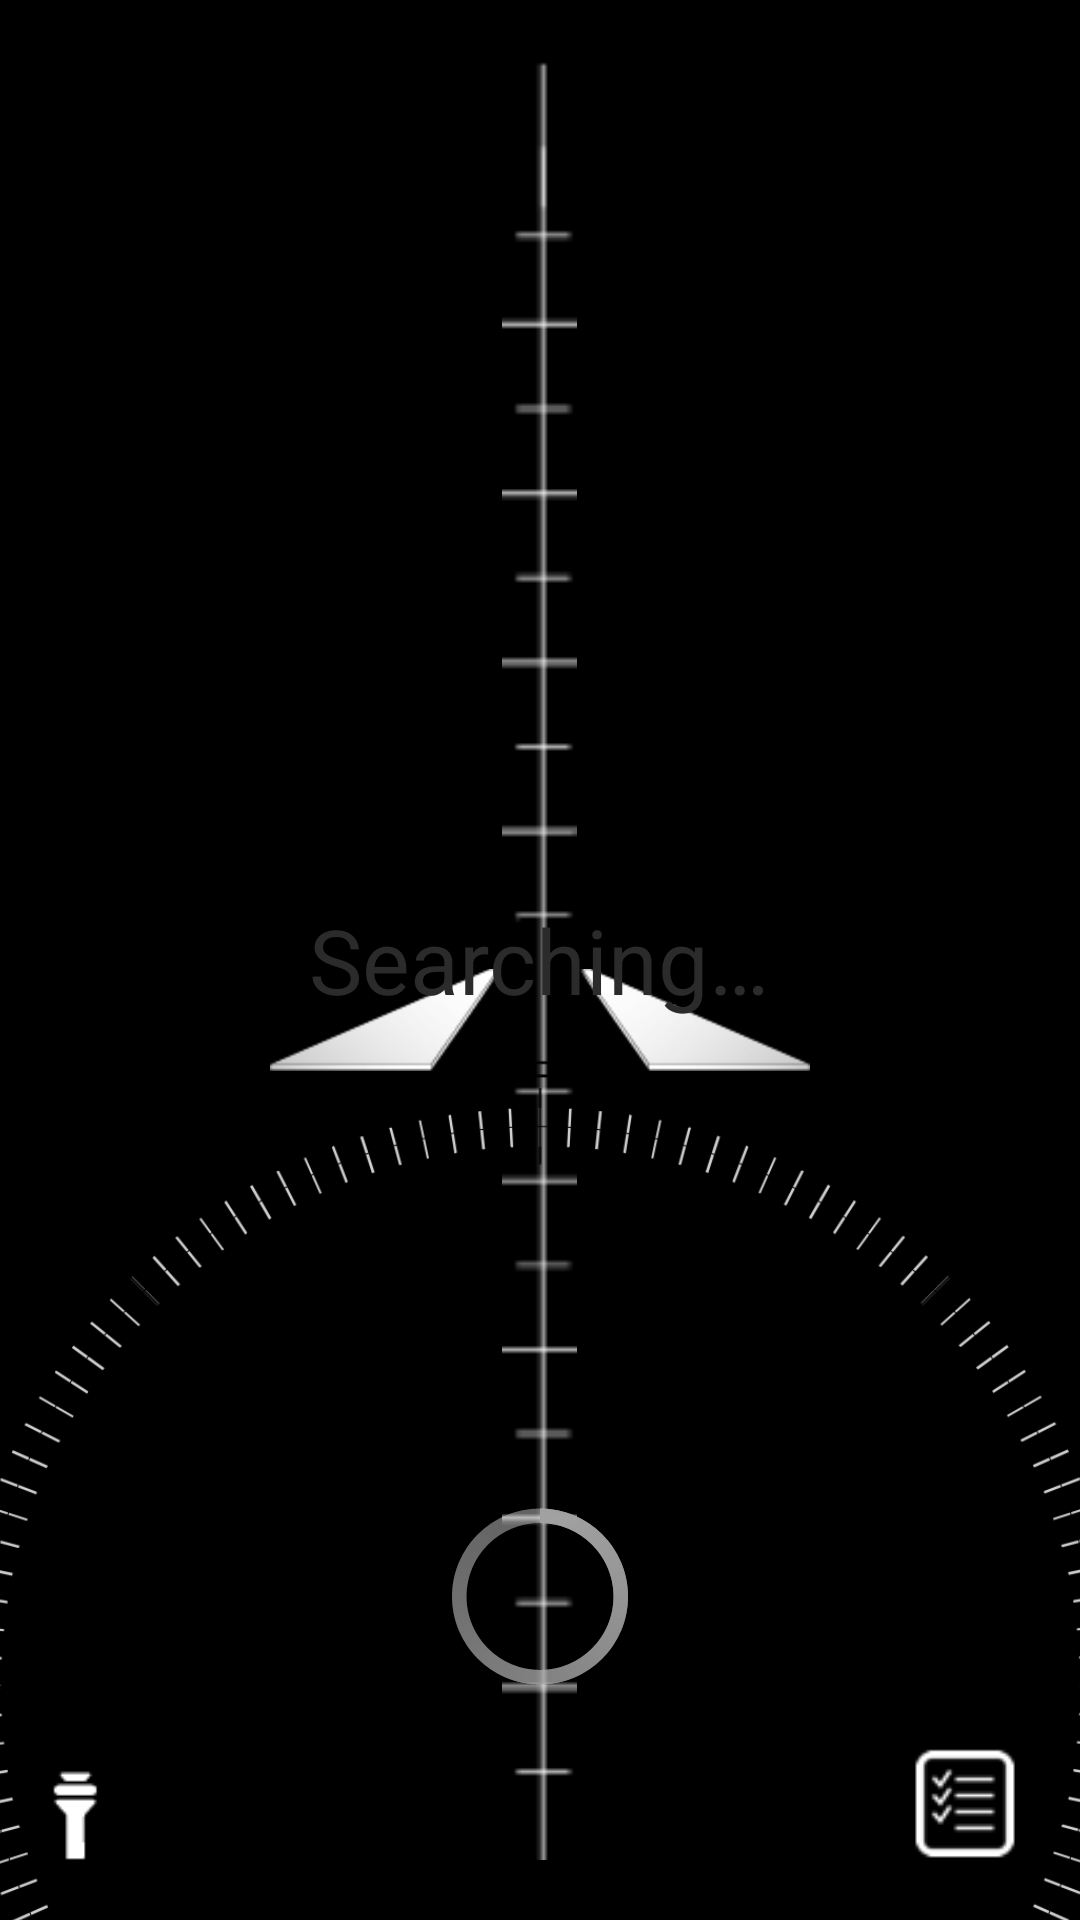

Point at icon controls on the screen. Image size 1080px x 1920px, points as [x,y].
Checklist: [997,1816]
